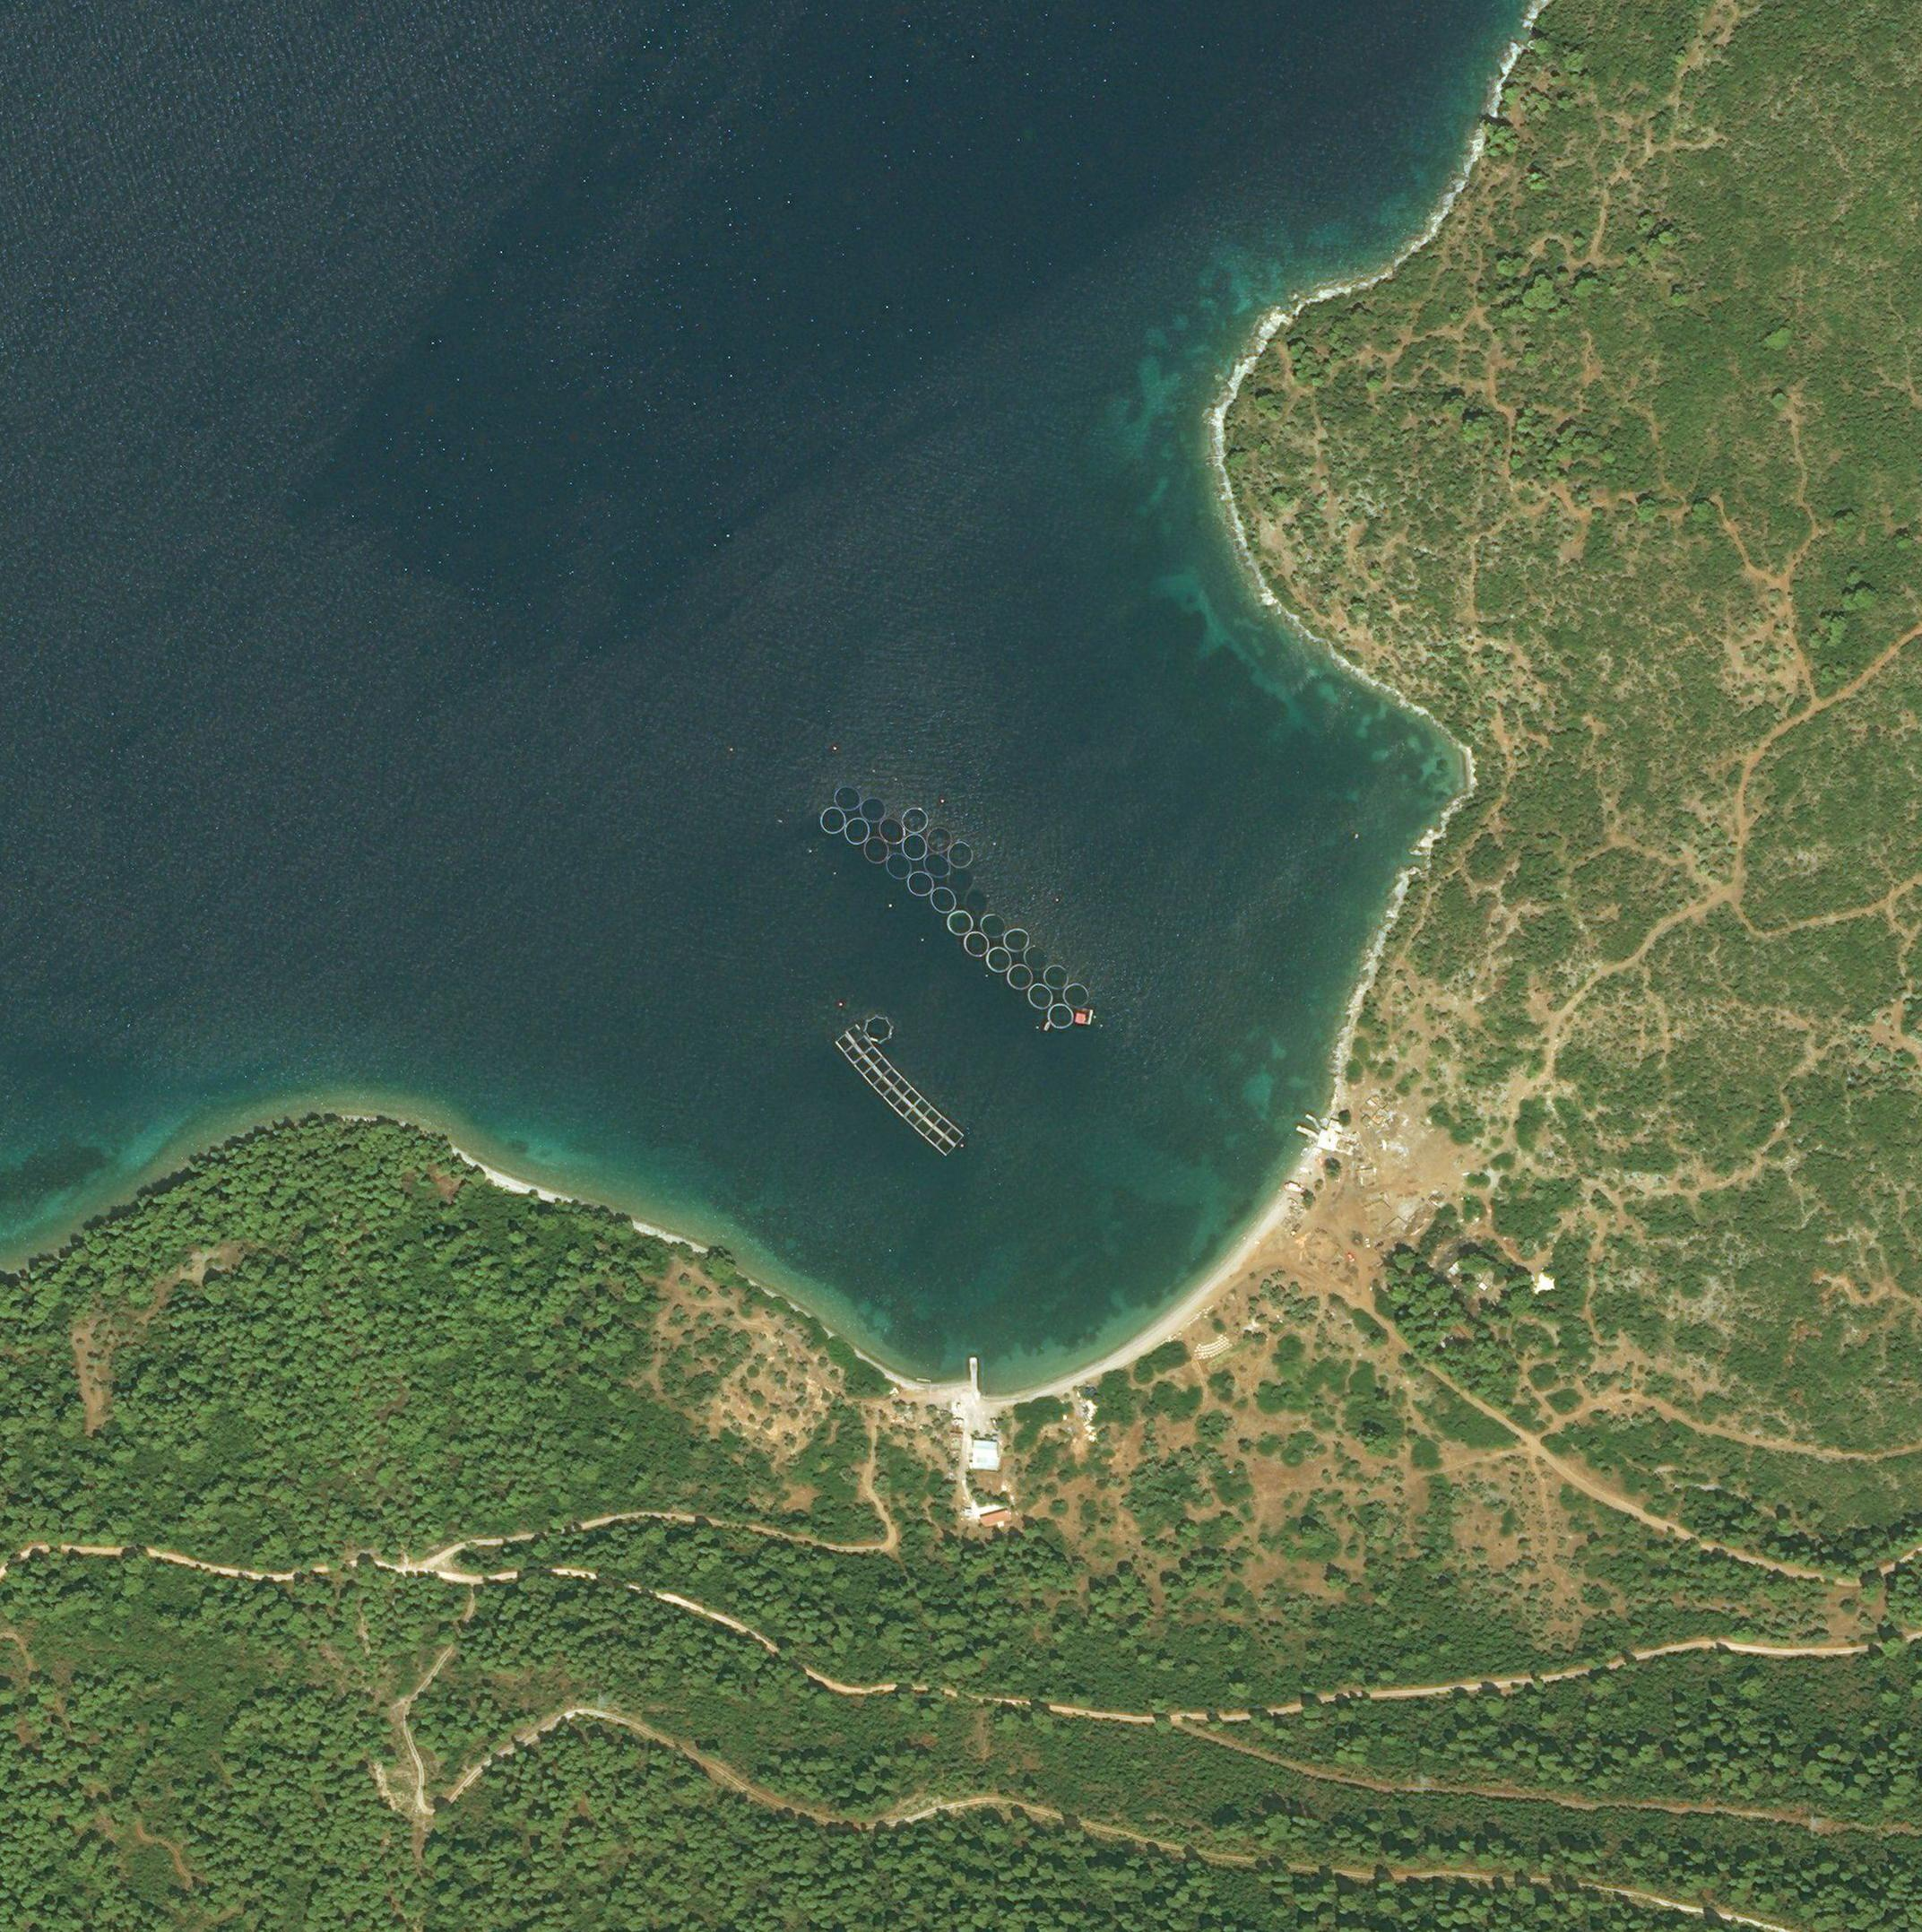c: (859, 795, 887, 823), (929, 887, 957, 915), (1042, 964, 1070, 992), (901, 832, 928, 862), (949, 839, 975, 869), (963, 929, 989, 959), (820, 806, 847, 834), (834, 787, 862, 813), (862, 836, 889, 864), (901, 808, 929, 834), (885, 852, 912, 880), (945, 910, 973, 936), (979, 913, 1007, 940), (986, 947, 1014, 973), (1007, 964, 1033, 992), (1063, 982, 1089, 1010), (922, 853, 952, 878), (926, 827, 952, 853), (908, 871, 935, 897), (1003, 927, 1030, 954), (845, 816, 869, 845), (1028, 982, 1053, 1010), (1047, 1003, 1075, 1028)
